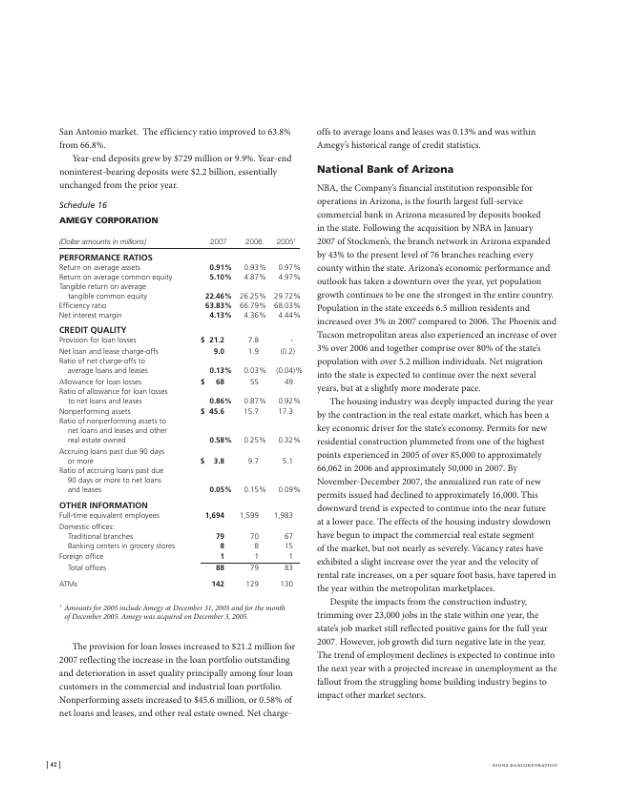table: (60, 213, 301, 596)
